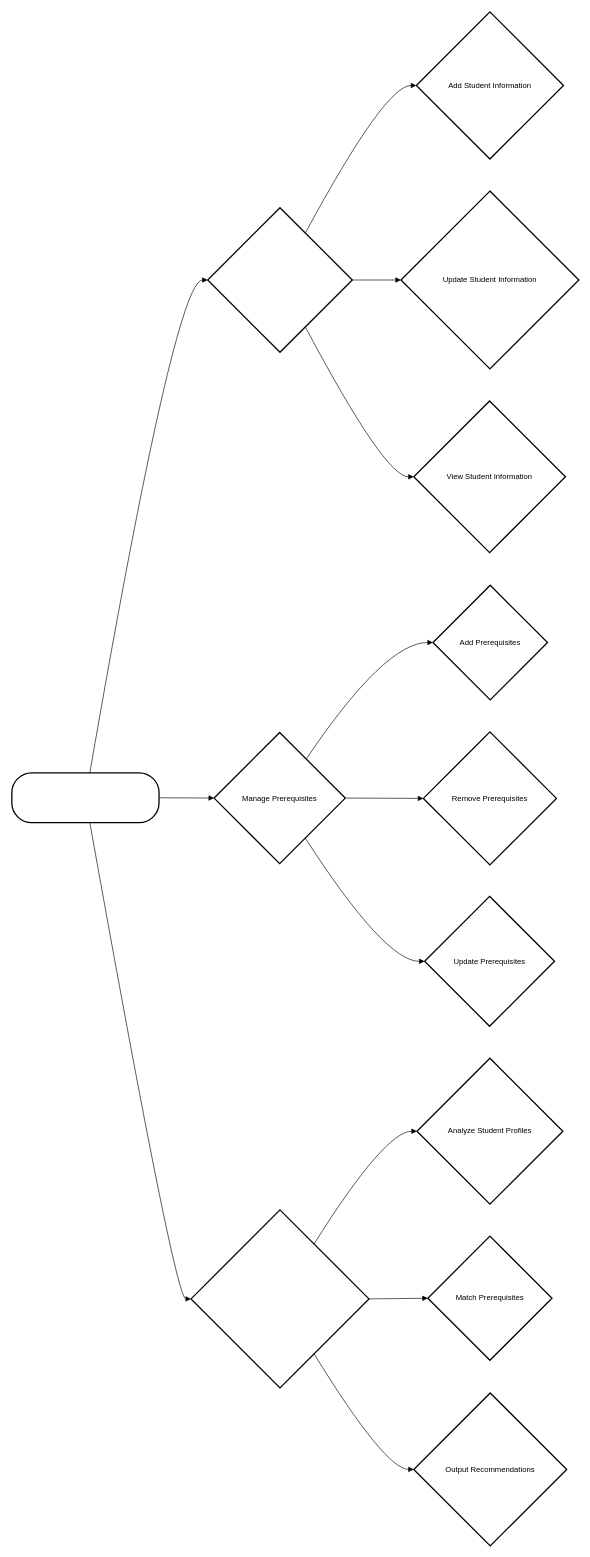
Some shapes in this 590 by 1557 pixel diagram are drawn without their labels. Here are the shapes that lost their labels. From the top down, the box of each, then its label:
(207, 207, 353, 353): Manage Student Profiles
(11, 772, 159, 823): Course Recommendation System
(190, 1209, 369, 1388): Generate Recommendations
